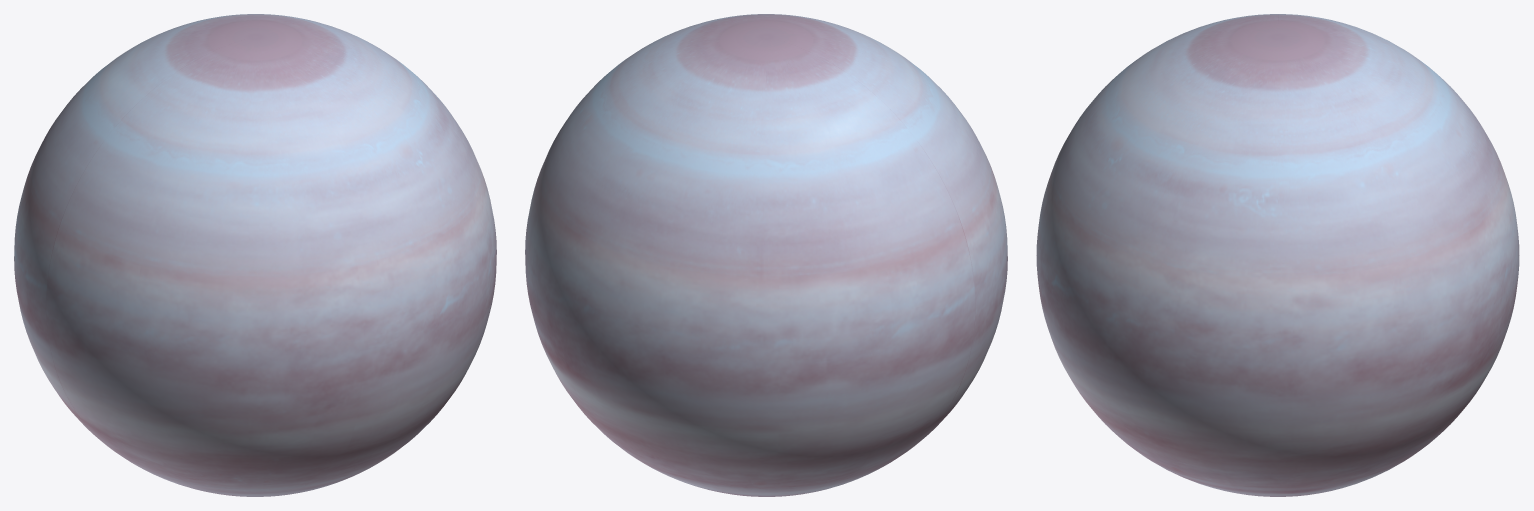
3 renders of one model, left to right at view 1: azimuth 30°, elevation 25°; view 2: azimuth 150°, elevation 25°; view 3: azimuth 270°, elevation 25°, orthographic.
Parts seen in each view (by area): view 1: HD _109271_c; view 2: HD _109271_c; view 3: HD _109271_c.
Part boxes in pixels (bbox=[...]): HD _109271_c: bbox=[14, 14, 496, 496]; HD _109271_c: bbox=[525, 14, 1007, 496]; HD _109271_c: bbox=[1036, 14, 1519, 496].
Bounding box in the file's own units: 2 × 2 × 2.
1 material, 1 textured.
